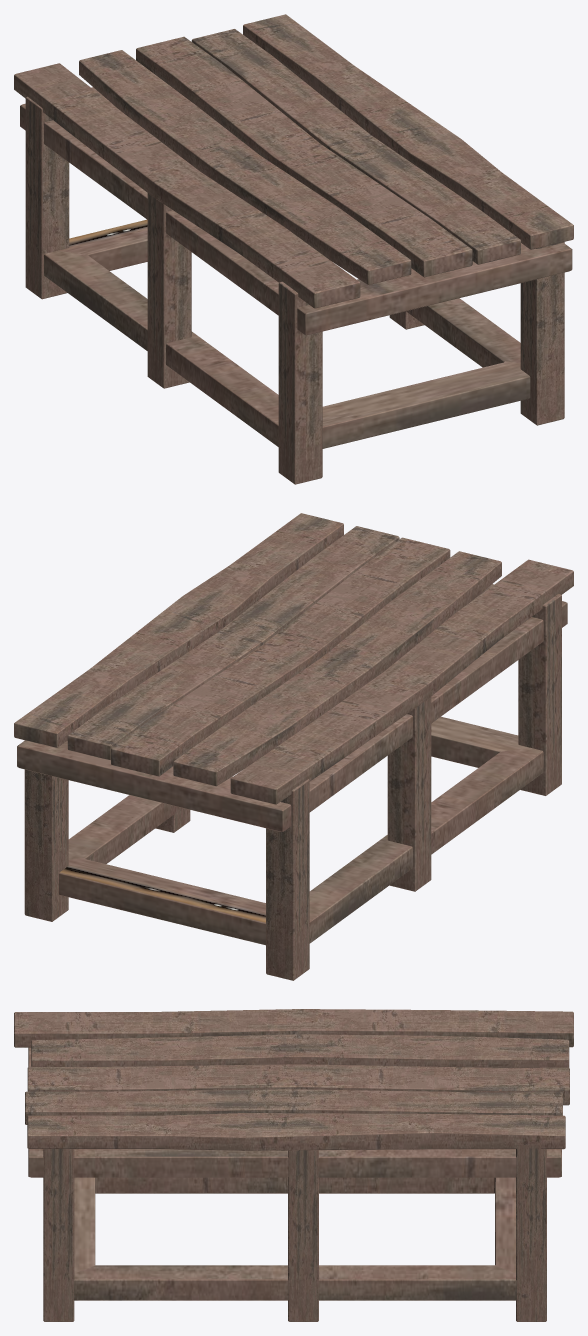
The model's file is Sm_table_01.glb.
The picture shows the model from 3 angles, top to bottom: view 1: azimuth 30°, elevation 25°; view 2: azimuth 150°, elevation 25°; view 3: azimuth 270°, elevation 25°; orthographic projection. The views are drawn at different scales.
Parts seen in each view (by area): view 1: Sm_table_01; view 2: Sm_table_01; view 3: Sm_table_01.
Boxes of the visible parts, x1=… form: Sm_table_01: x1=14, y1=14, x2=573, y2=484; Sm_table_01: x1=14, y1=513, x2=573, y2=980; Sm_table_01: x1=14, y1=1009, x2=573, y2=1321.
Bounding box in the file's own units: 1.23 × 0.8666 × 2.31.
Materials: 1 (1 with a texture image).
